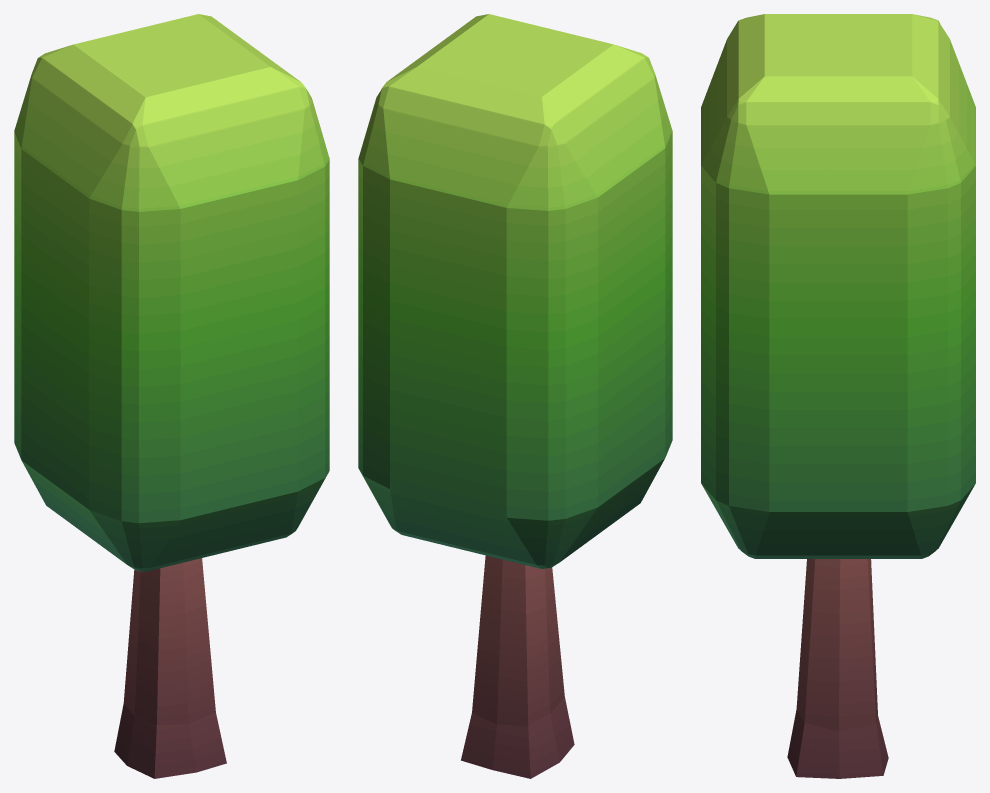
Rendered from Green_C.glb.
The picture shows the model from 3 angles, left to right: view 1: azimuth 30°, elevation 25°; view 2: azimuth 150°, elevation 25°; view 3: azimuth 270°, elevation 25°; orthographic projection. The views are drawn at different scales.
Visible parts, largest first — view 1: Green_Leaves_C, Green_Trunk_C; view 2: Green_Leaves_C, Green_Trunk_C; view 3: Green_Leaves_C, Green_Trunk_C.
Part boxes in pixels (x1=…): Green_Leaves_C: x1=14, y1=14, x2=329, y2=571; Green_Trunk_C: x1=114, y1=558, x2=226, y2=778; Green_Leaves_C: x1=358, y1=14, x2=672, y2=568; Green_Trunk_C: x1=461, y1=555, x2=574, y2=778; Green_Leaves_C: x1=701, y1=14, x2=975, y2=558; Green_Trunk_C: x1=787, y1=559, x2=888, y2=778.
Bounding box in the file's own units: 1.44 × 4.14 × 1.44.
Materials: 1 (1 with a texture image).
